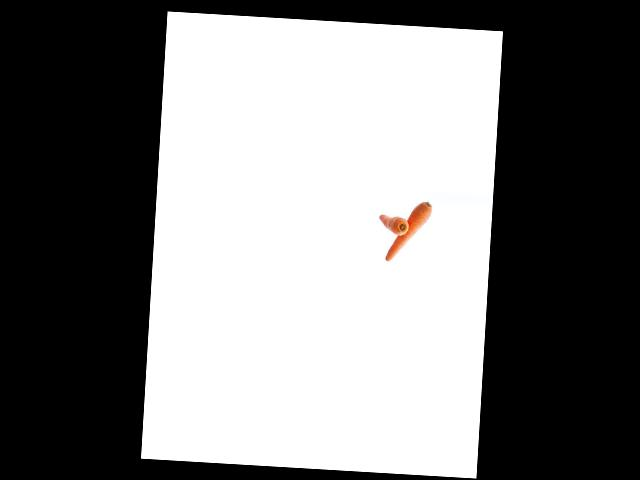carrot: (376, 210, 411, 236)
